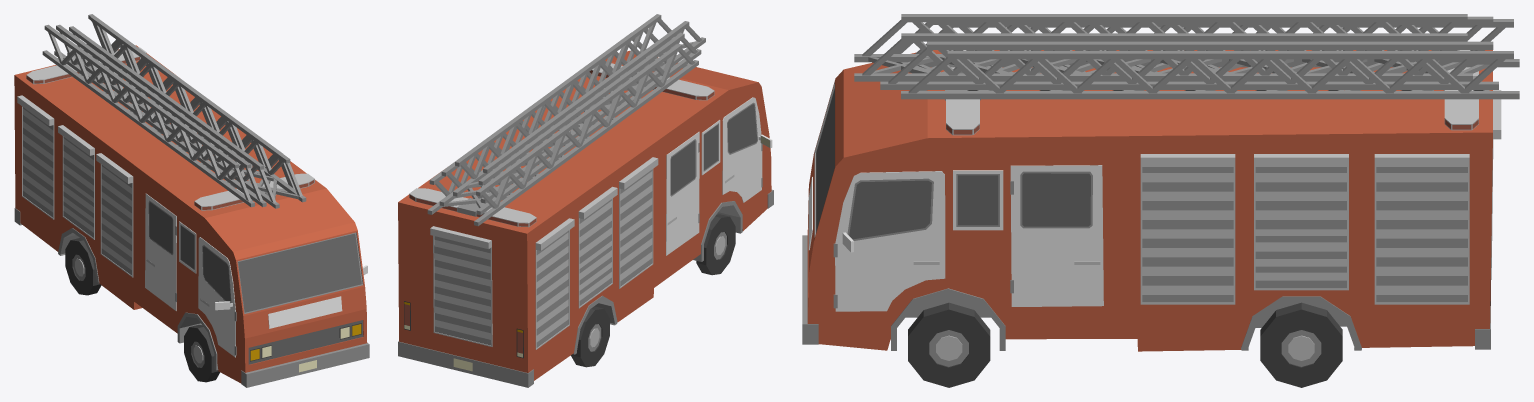
File: fire engine_1.fbx
The picture shows the model from 3 angles, left to right: view 1: azimuth 30°, elevation 25°; view 2: azimuth 150°, elevation 25°; view 3: azimuth 270°, elevation 25°; orthographic projection. The views are drawn at different scales.
Visible parts, largest first — view 1: yu_1, Cylinder_2_1, Cylinder_2_3; view 2: yu_1, Cylinder_2_1, Cylinder_2_3; view 3: yu_1, Cylinder_2, Cylinder_2_2.
Part boxes in pixels (bbox=[...]): yu_1: bbox=[14, 14, 369, 387]; Cylinder_2_1: bbox=[184, 325, 219, 382]; Cylinder_2_3: bbox=[65, 238, 101, 295]; yu_1: bbox=[398, 14, 773, 387]; Cylinder_2_1: bbox=[696, 214, 735, 275]; Cylinder_2_3: bbox=[571, 306, 609, 367]; yu_1: bbox=[802, 14, 1519, 351]; Cylinder_2: bbox=[908, 302, 990, 387]; Cylinder_2_2: bbox=[1260, 302, 1342, 387].
Bounding box in the file's own units: 184 × 248 × 505.
